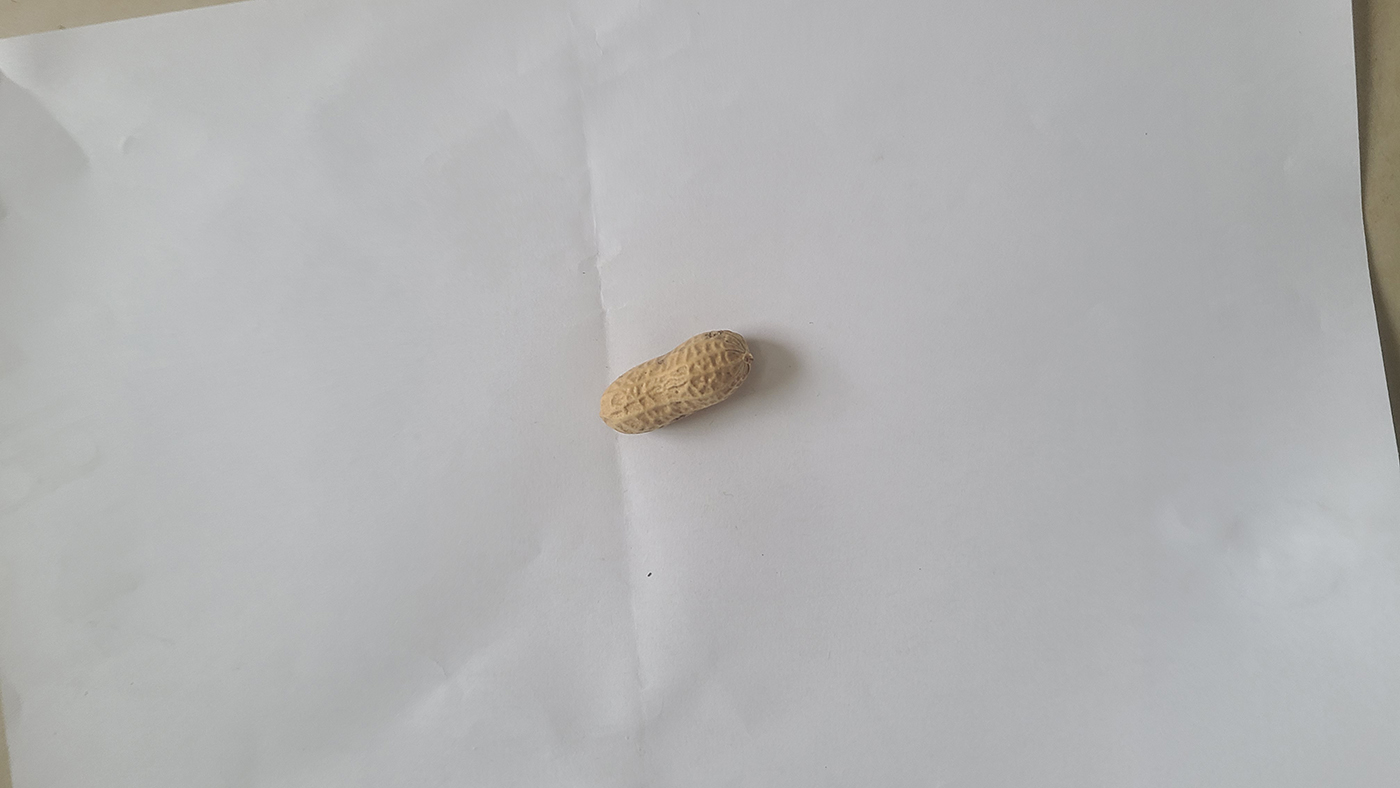h: (596, 328, 754, 434)
